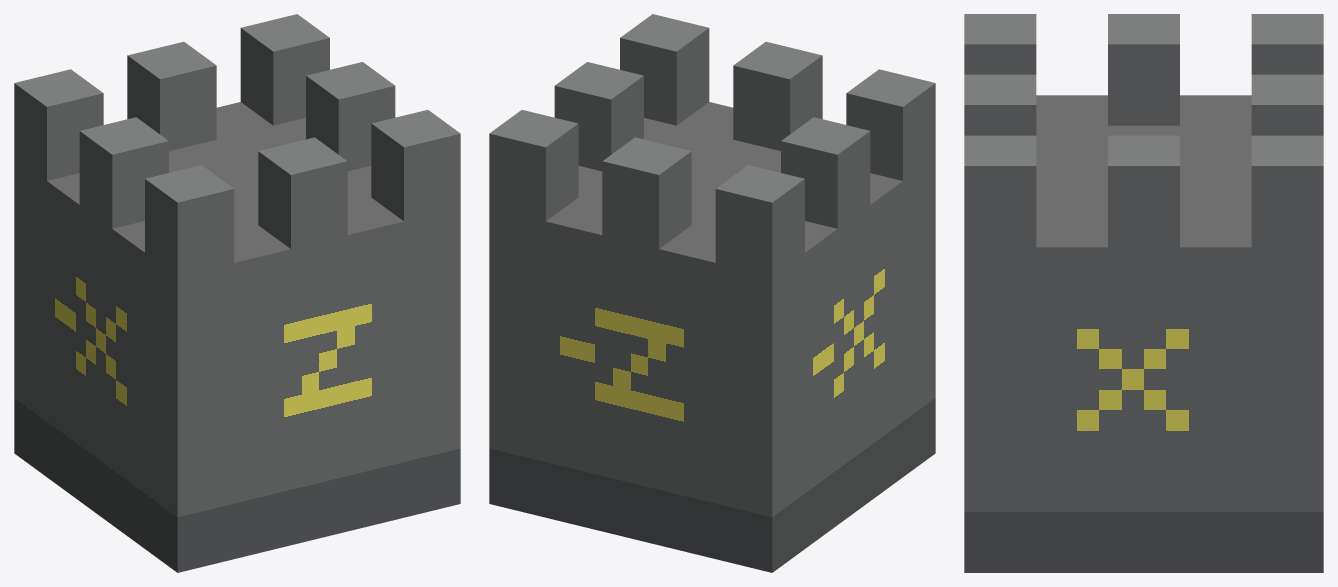
File: test_tower_02.gltf
3 renders of one model, left to right at view 1: azimuth 30°, elevation 25°; view 2: azimuth 150°, elevation 25°; view 3: azimuth 270°, elevation 25°, orthographic. The views are drawn at different scales.
Visible parts, largest first — view 1: cuboid; view 2: cuboid; view 3: cuboid.
Boxes of the visible parts, x1,y1,x2,y2 form: cuboid: (14, 14, 460, 572); cuboid: (489, 14, 935, 572); cuboid: (964, 14, 1323, 572).
Size of the model in its own units: 1 by 1.25 by 1.
1 material, 1 textured.
